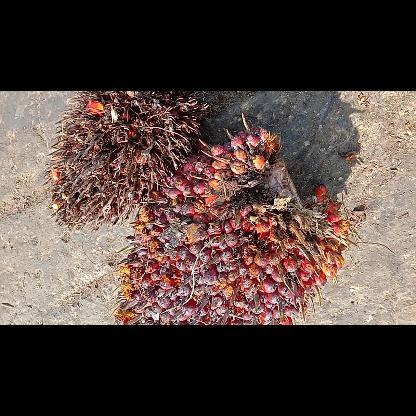TBS masak: (111, 114, 353, 324)
Terlalu masak: (44, 91, 207, 231)
